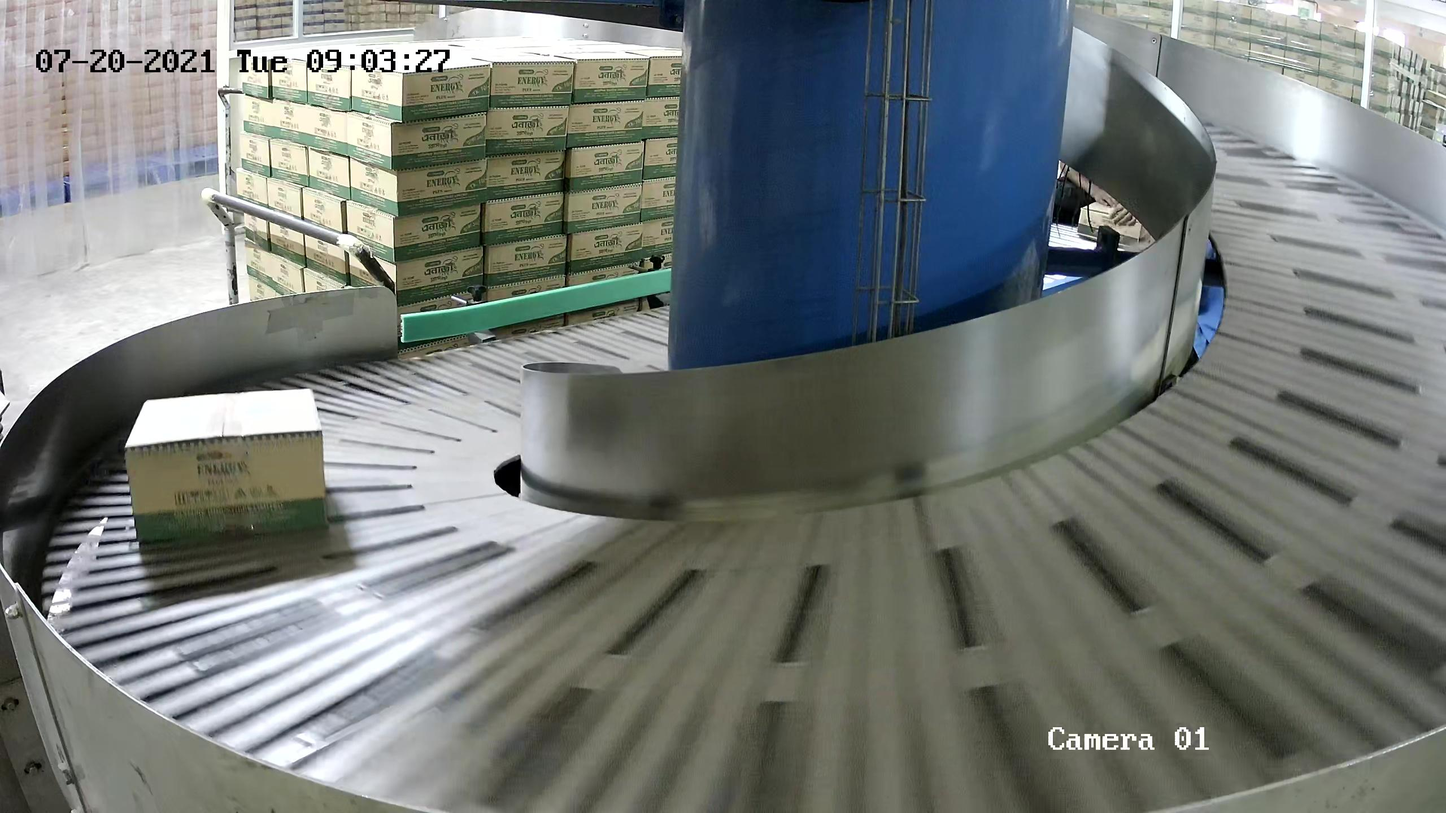Box: (123, 388, 331, 544)
